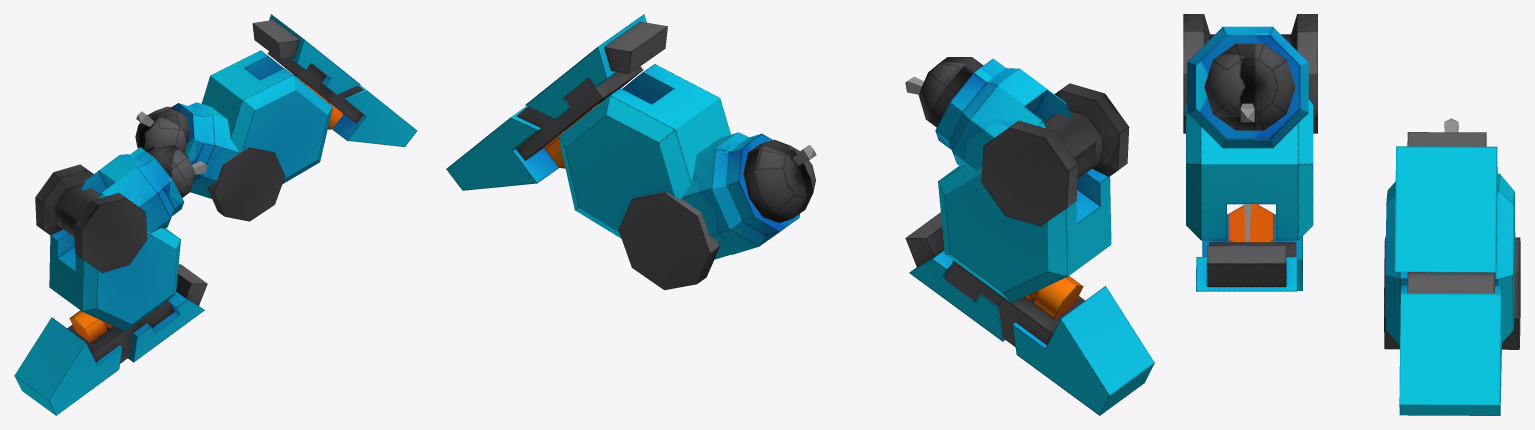
Rendered from Bottom_Running15.obj.
3 views of the same model, side by side, from view 1: azimuth 30°, elevation 25°; view 2: azimuth 150°, elevation 25°; view 3: azimuth 270°, elevation 25° (orthographic). The views are drawn at different scales.
Visible parts, largest first — view 1: Object013, Object010, Object014, Object011, Object012, Object009; view 2: Object013, Object010, Object014, Object011, Object009, Object012; view 3: Object011, Object013, Object012, Object014, Object010.
Part boxes in pixels (box(x1,y1,x2,y2)): Object013: box(35, 164, 180, 331); Object010: box(201, 50, 332, 221); Object014: box(14, 264, 207, 415); Object011: box(252, 14, 417, 146); Object012: box(81, 145, 195, 233); Object009: box(135, 102, 239, 198); Object013: box(938, 83, 1129, 302); Object010: box(558, 64, 730, 290); Object014: box(905, 212, 1154, 415); Object011: box(446, 14, 667, 190); Object009: box(682, 132, 815, 259); Object012: box(918, 57, 1072, 170); Object011: box(1394, 132, 1501, 415); Object013: box(1183, 14, 1317, 240); Object012: box(1187, 26, 1308, 148); Object014: box(1196, 204, 1302, 291); Object010: box(1384, 173, 1520, 349).
Size of the model in its own units: 208 by 114 by 94.48.
